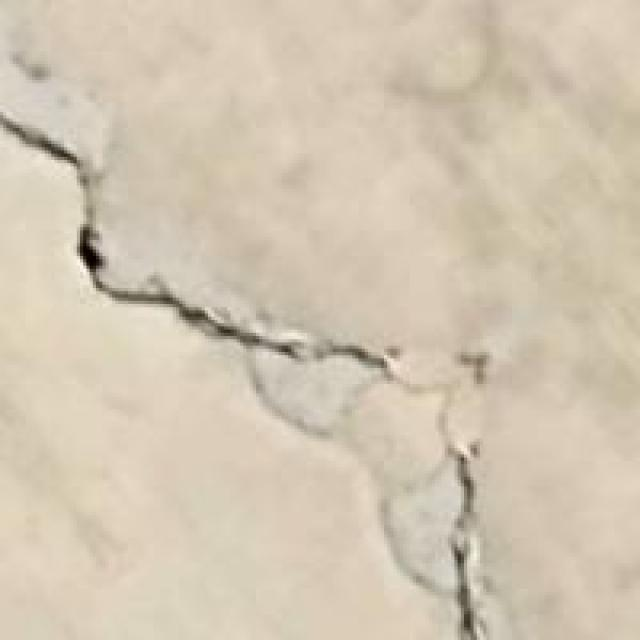crack: (3, 90, 515, 630)
